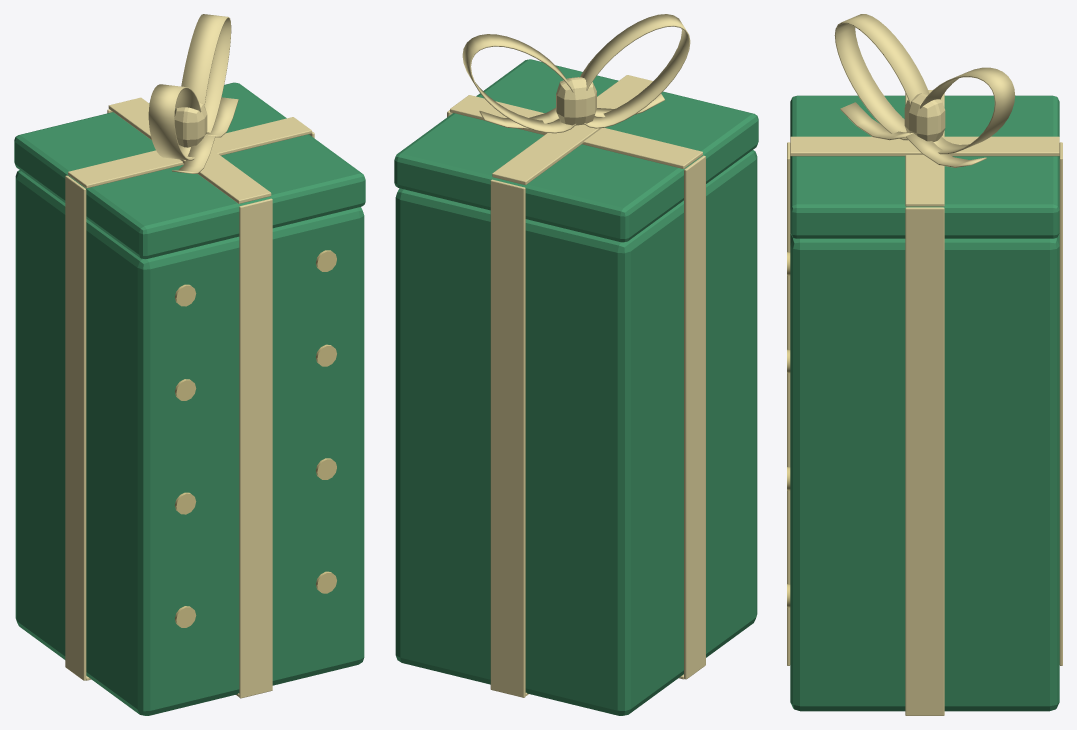
The model's file is present_tall_green.glb.
3 views of the same model, side by side, from view 1: azimuth 30°, elevation 25°; view 2: azimuth 150°, elevation 25°; view 3: azimuth 270°, elevation 25° (orthographic). The views are drawn at different scales.
Visible parts, largest first — view 1: Tall green gift box, Tall green fitted lid, Ribbon over front and back, Ribbon over left and right, Ribbon across lid width, Curved bow loop 1, Ribbon across lid depth, Curved bow loop 2, Ribbon center knot, Bow ribbon tail, Bow ribbon tail.001; view 2: Tall green gift box, Tall green fitted lid, Ribbon over front and back.001, Ribbon over left and right, Curved bow loop 2, Ribbon across lid depth, Ribbon across lid width, Curved bow loop 1, Ribbon center knot, Bow ribbon tail.001; view 3: Tall green gift box, Tall green fitted lid, Ribbon over left and right.001, Curved bow loop 2, Ribbon across lid depth, Curved bow loop 1, Ribbon over front and back.001, Ribbon across lid width, Ribbon over front and back, Ribbon center knot, Bow ribbon tail, Bow ribbon tail.001.
Boxes of the visible parts, <box> form: Tall green gift box: <box>15,170,364,715</box>; Tall green fitted lid: <box>14,82,365,259</box>; Ribbon over front and back: <box>239,198,272,698</box>; Ribbon over left and right: <box>65,175,86,680</box>; Ribbon across lid width: <box>68,117,311,188</box>; Curved bow loop 1: <box>181,14,231,132</box>; Ribbon across lid depth: <box>108,97,271,203</box>; Curved bow loop 2: <box>148,84,201,160</box>; Ribbon center knot: <box>174,102,207,147</box>; Bow ribbon tail: <box>172,135,215,173</box>; Bow ribbon tail.001: <box>205,97,238,137</box>; Tall green gift box: <box>395,150,757,715</box>; Tall green fitted lid: <box>394,59,758,242</box>; Ribbon over front and back.001: <box>490,179,525,697</box>; Ribbon over left and right: <box>684,155,705,679</box>; Curved bow loop 2: <box>580,14,690,128</box>; Ribbon across lid depth: <box>492,75,652,184</box>; Ribbon across lid width: <box>450,95,702,168</box>; Curved bow loop 1: <box>462,34,576,133</box>; Ribbon center knot: <box>556,77,596,125</box>; Bow ribbon tail.001: <box>479,108,559,129</box>; Tall green gift box: <box>790,233,1059,711</box>; Tall green fitted lid: <box>790,95,1059,238</box>; Ribbon over left and right.001: <box>905,207,944,715</box>; Curved bow loop 2: <box>834,14,929,140</box>; Ribbon across lid depth: <box>790,136,1059,156</box>; Curved bow loop 1: <box>920,67,1015,154</box>; Ribbon over front and back.001: <box>1059,142,1062,665</box>; Ribbon across lid width: <box>905,90,944,206</box>; Ribbon over front and back: <box>787,142,790,665</box>; Ribbon center knot: <box>904,93,945,141</box>; Bow ribbon tail: <box>840,102,912,140</box>; Bow ribbon tail.001: <box>905,133,986,167</box>.
Bounding box in the file's own units: 0.256 × 0.6264 × 0.256.
